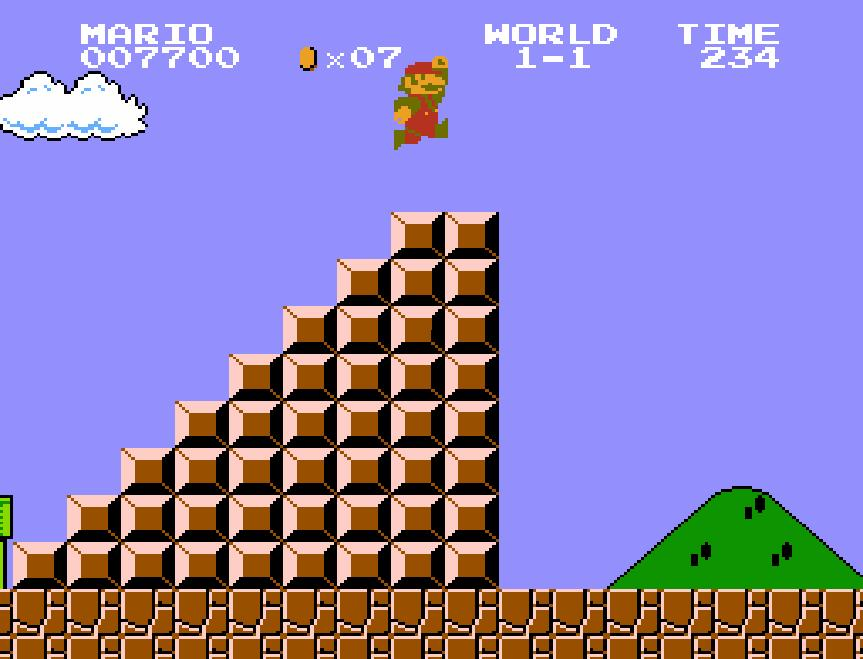big_mario: (392, 53, 450, 151)
